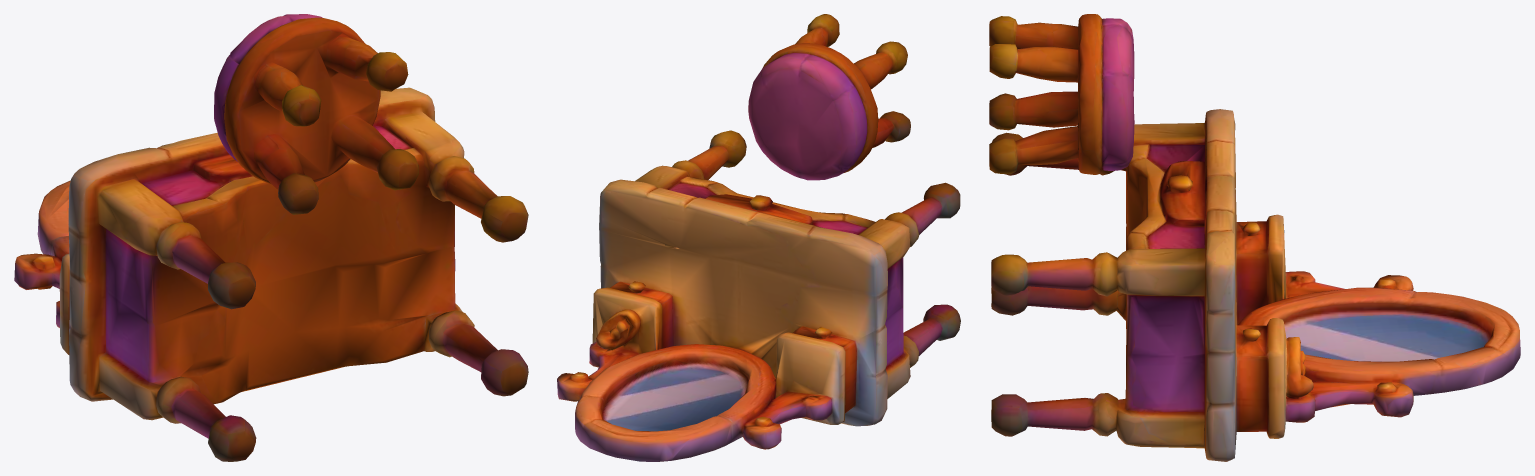
3 renders of one model, left to right at view 1: azimuth 30°, elevation 25°; view 2: azimuth 150°, elevation 25°; view 3: azimuth 270°, elevation 25°, orthographic. The views are drawn at different scales.
Parts seen in each view (by area): view 1: material; view 2: material; view 3: material.
Boxes of the visible parts, left/top/right/bottom form: material: left=14, top=14, right=528, bottom=461; material: left=557, top=14, right=960, bottom=461; material: left=989, top=14, right=1520, bottom=461.
Bounding box in the file's own units: 0.7071 × 0.7512 × 1.
1 material, 1 textured.
